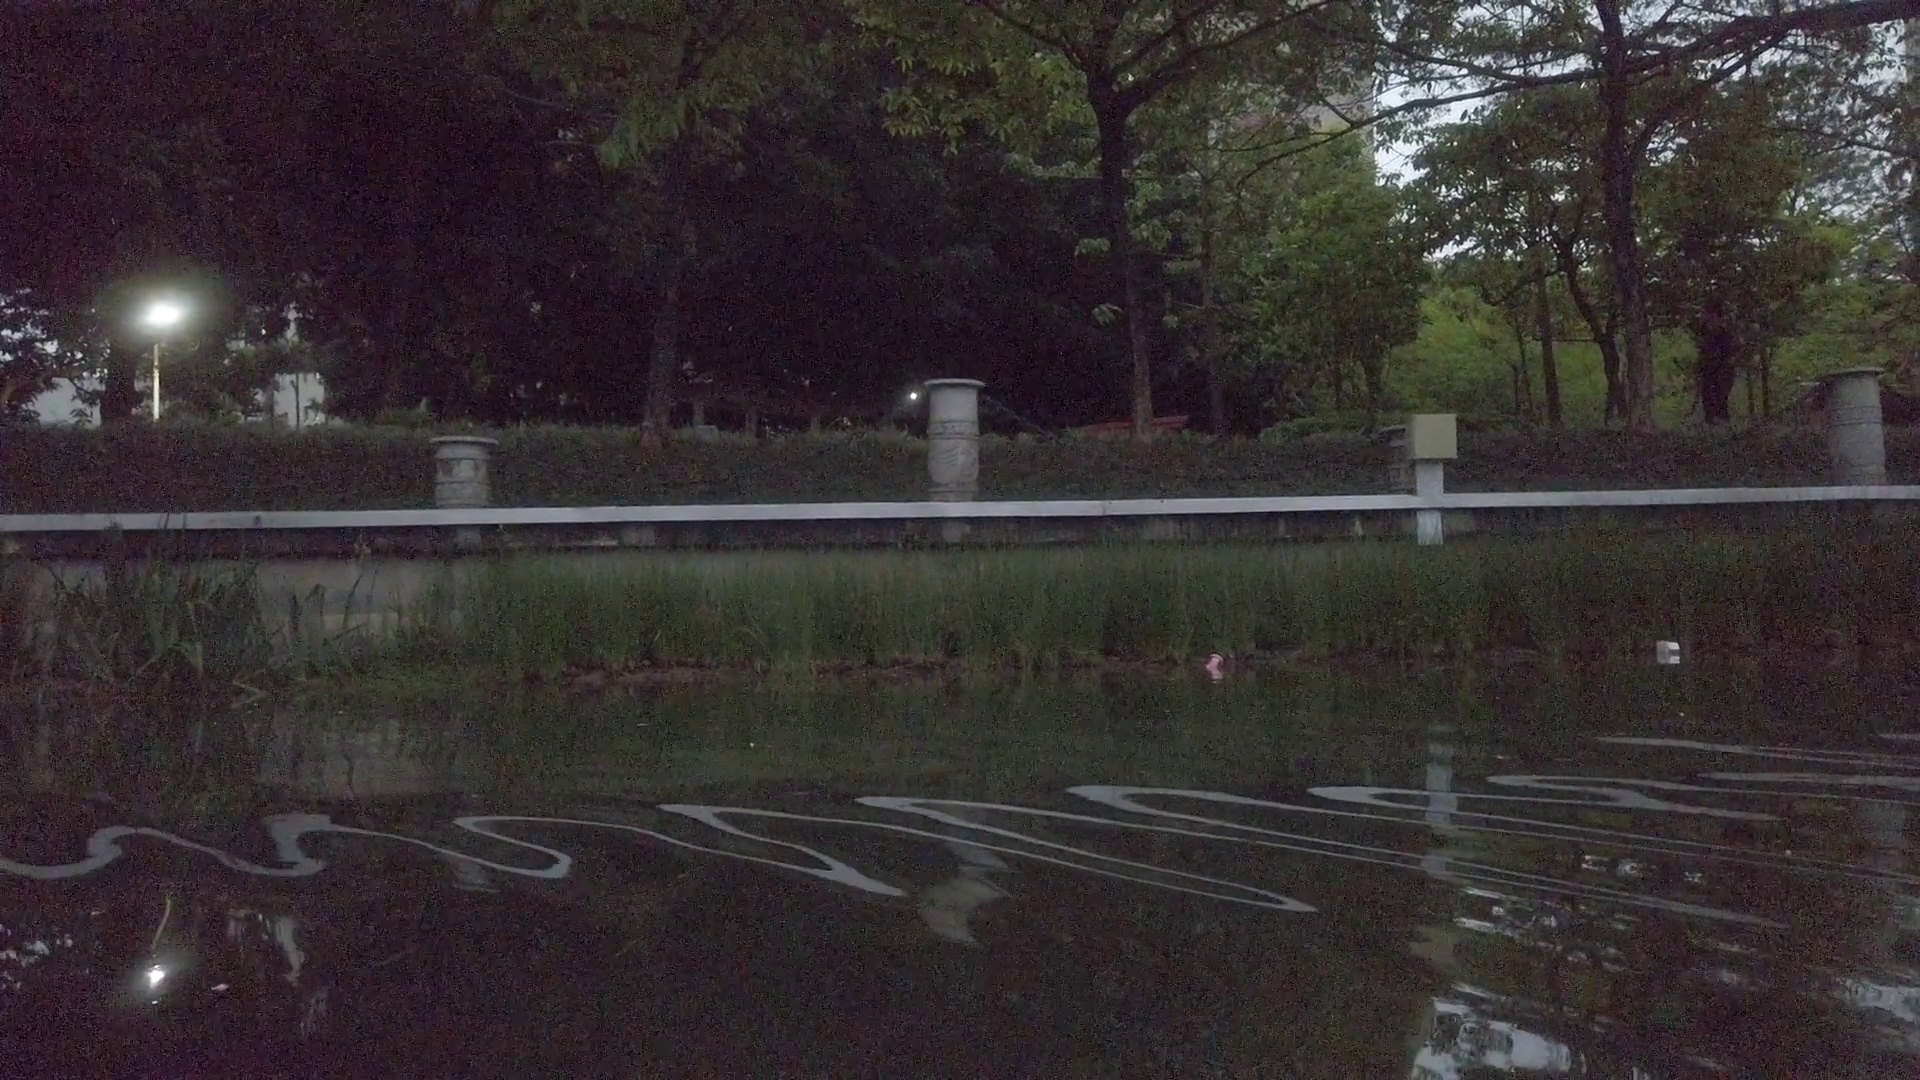bottle: (1205, 655, 1225, 679)
carton: (1658, 641, 1679, 657)
